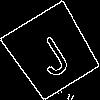J: (27, 26, 74, 80)
